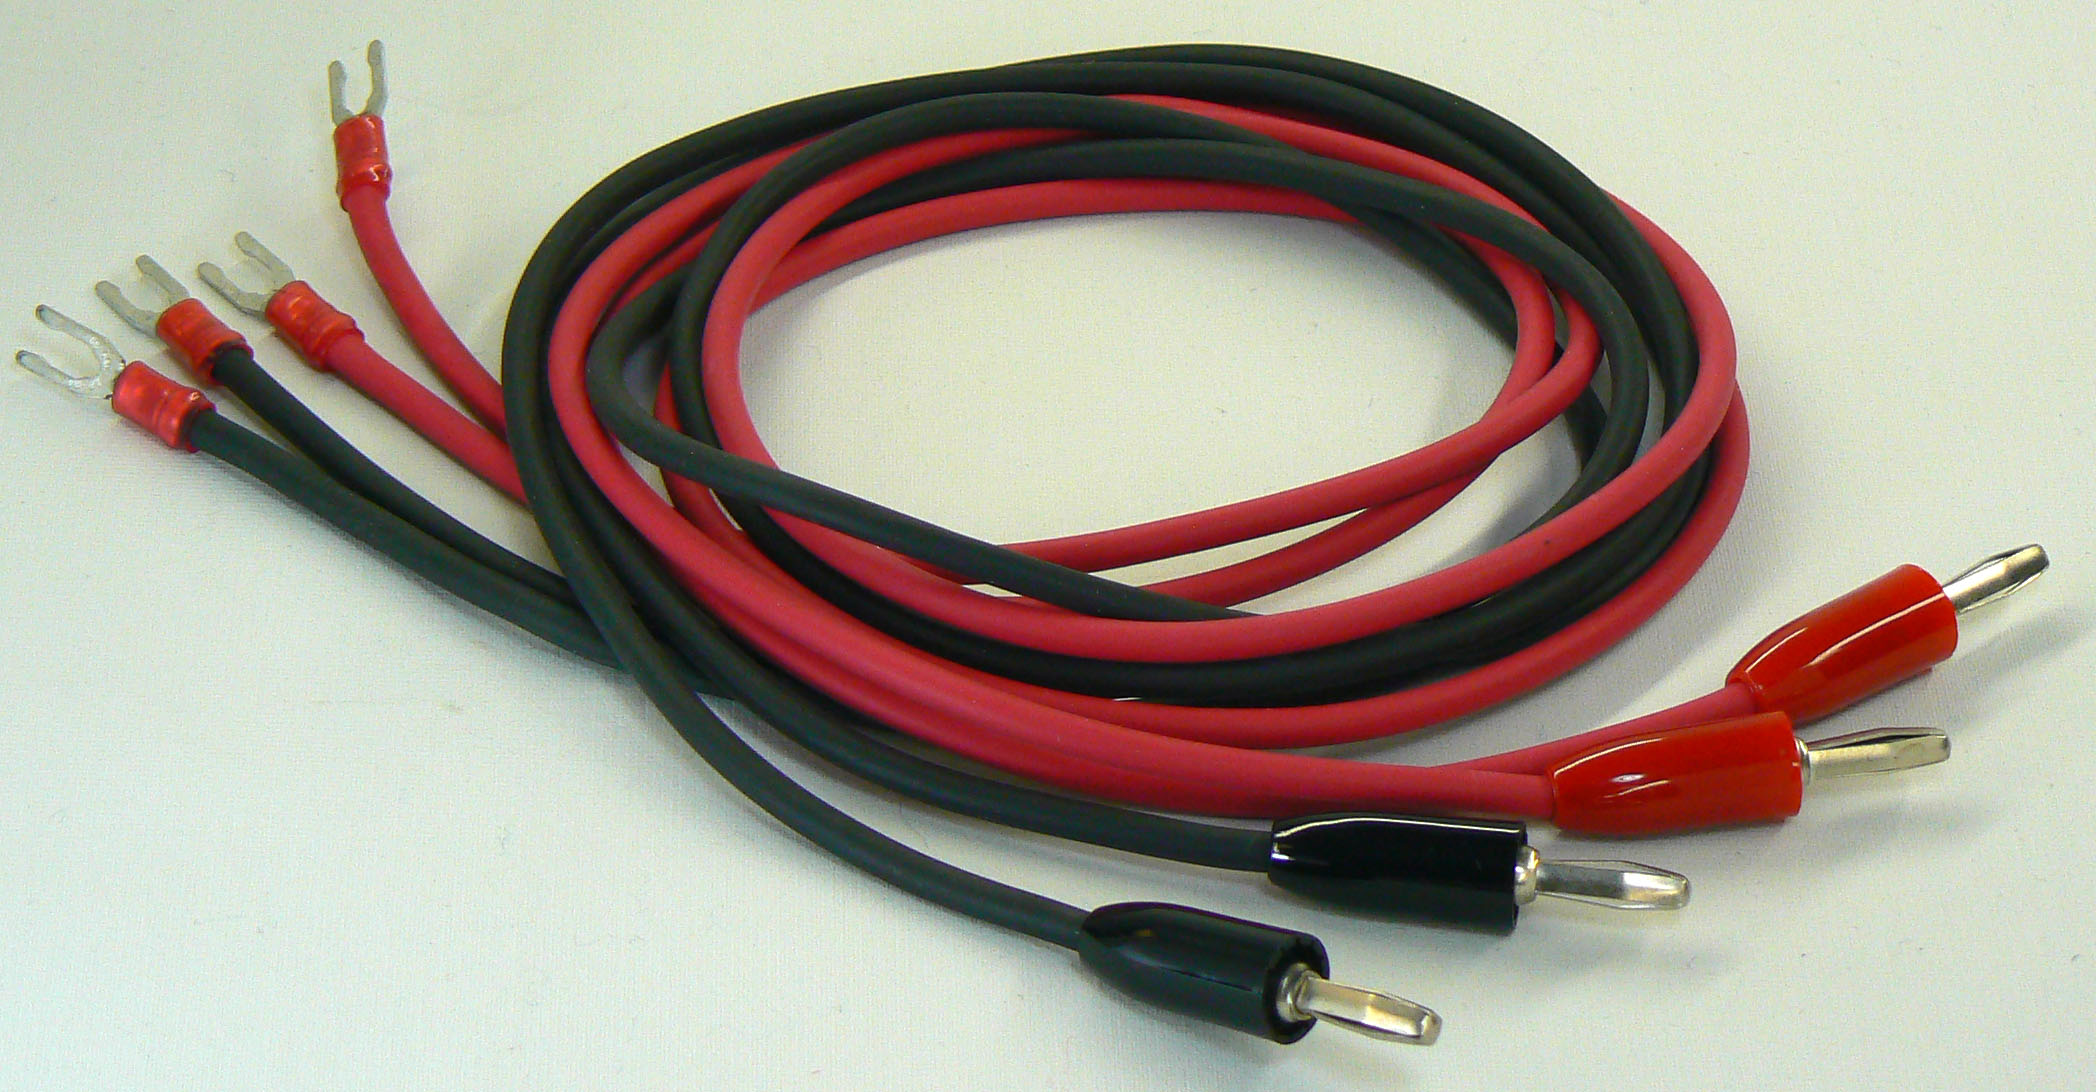Nonrec_Tangler: (29, 33, 2071, 1067)
